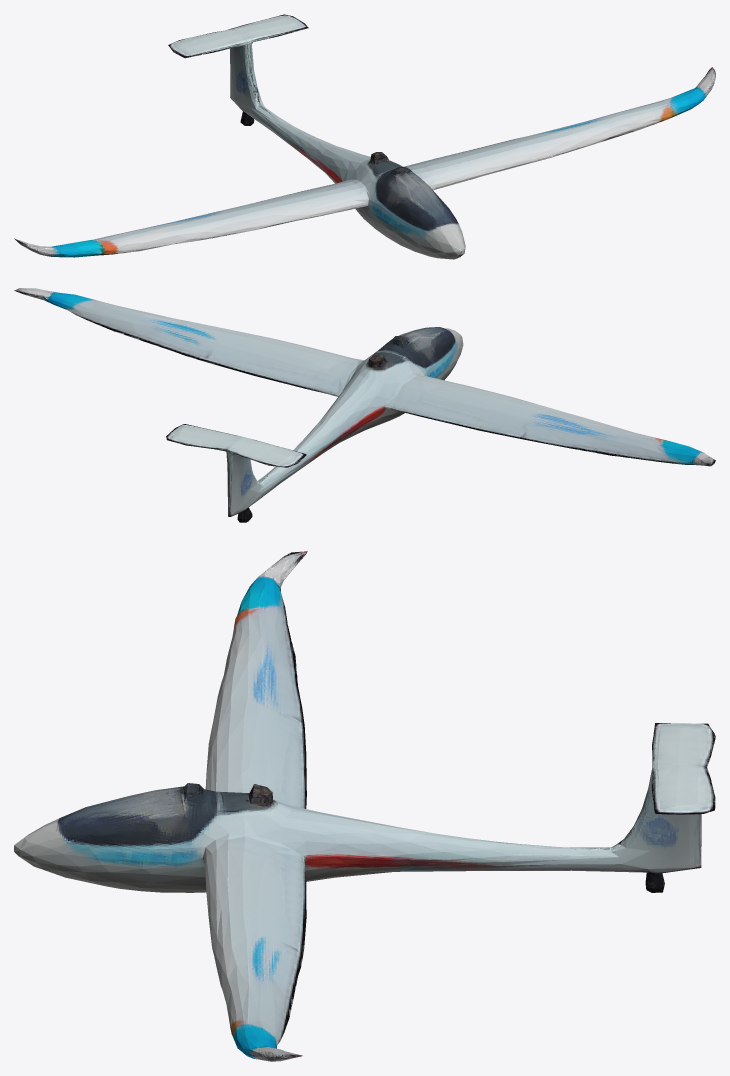
The picture shows the model from 3 angles, top to bottom: view 1: azimuth 30°, elevation 25°; view 2: azimuth 150°, elevation 25°; view 3: azimuth 270°, elevation 25°; orthographic projection. The views are drawn at different scales.
Visible parts, largest first — view 1: world; view 2: world; view 3: world.
Part boxes in pixels (x1,y1,x2,y2): world: [14, 14, 715, 259]; world: [14, 288, 715, 522]; world: [14, 551, 715, 1061].
Bounding box in the file's own units: 0.9973 × 0.1159 × 0.5815.
1 material, 1 textured.
